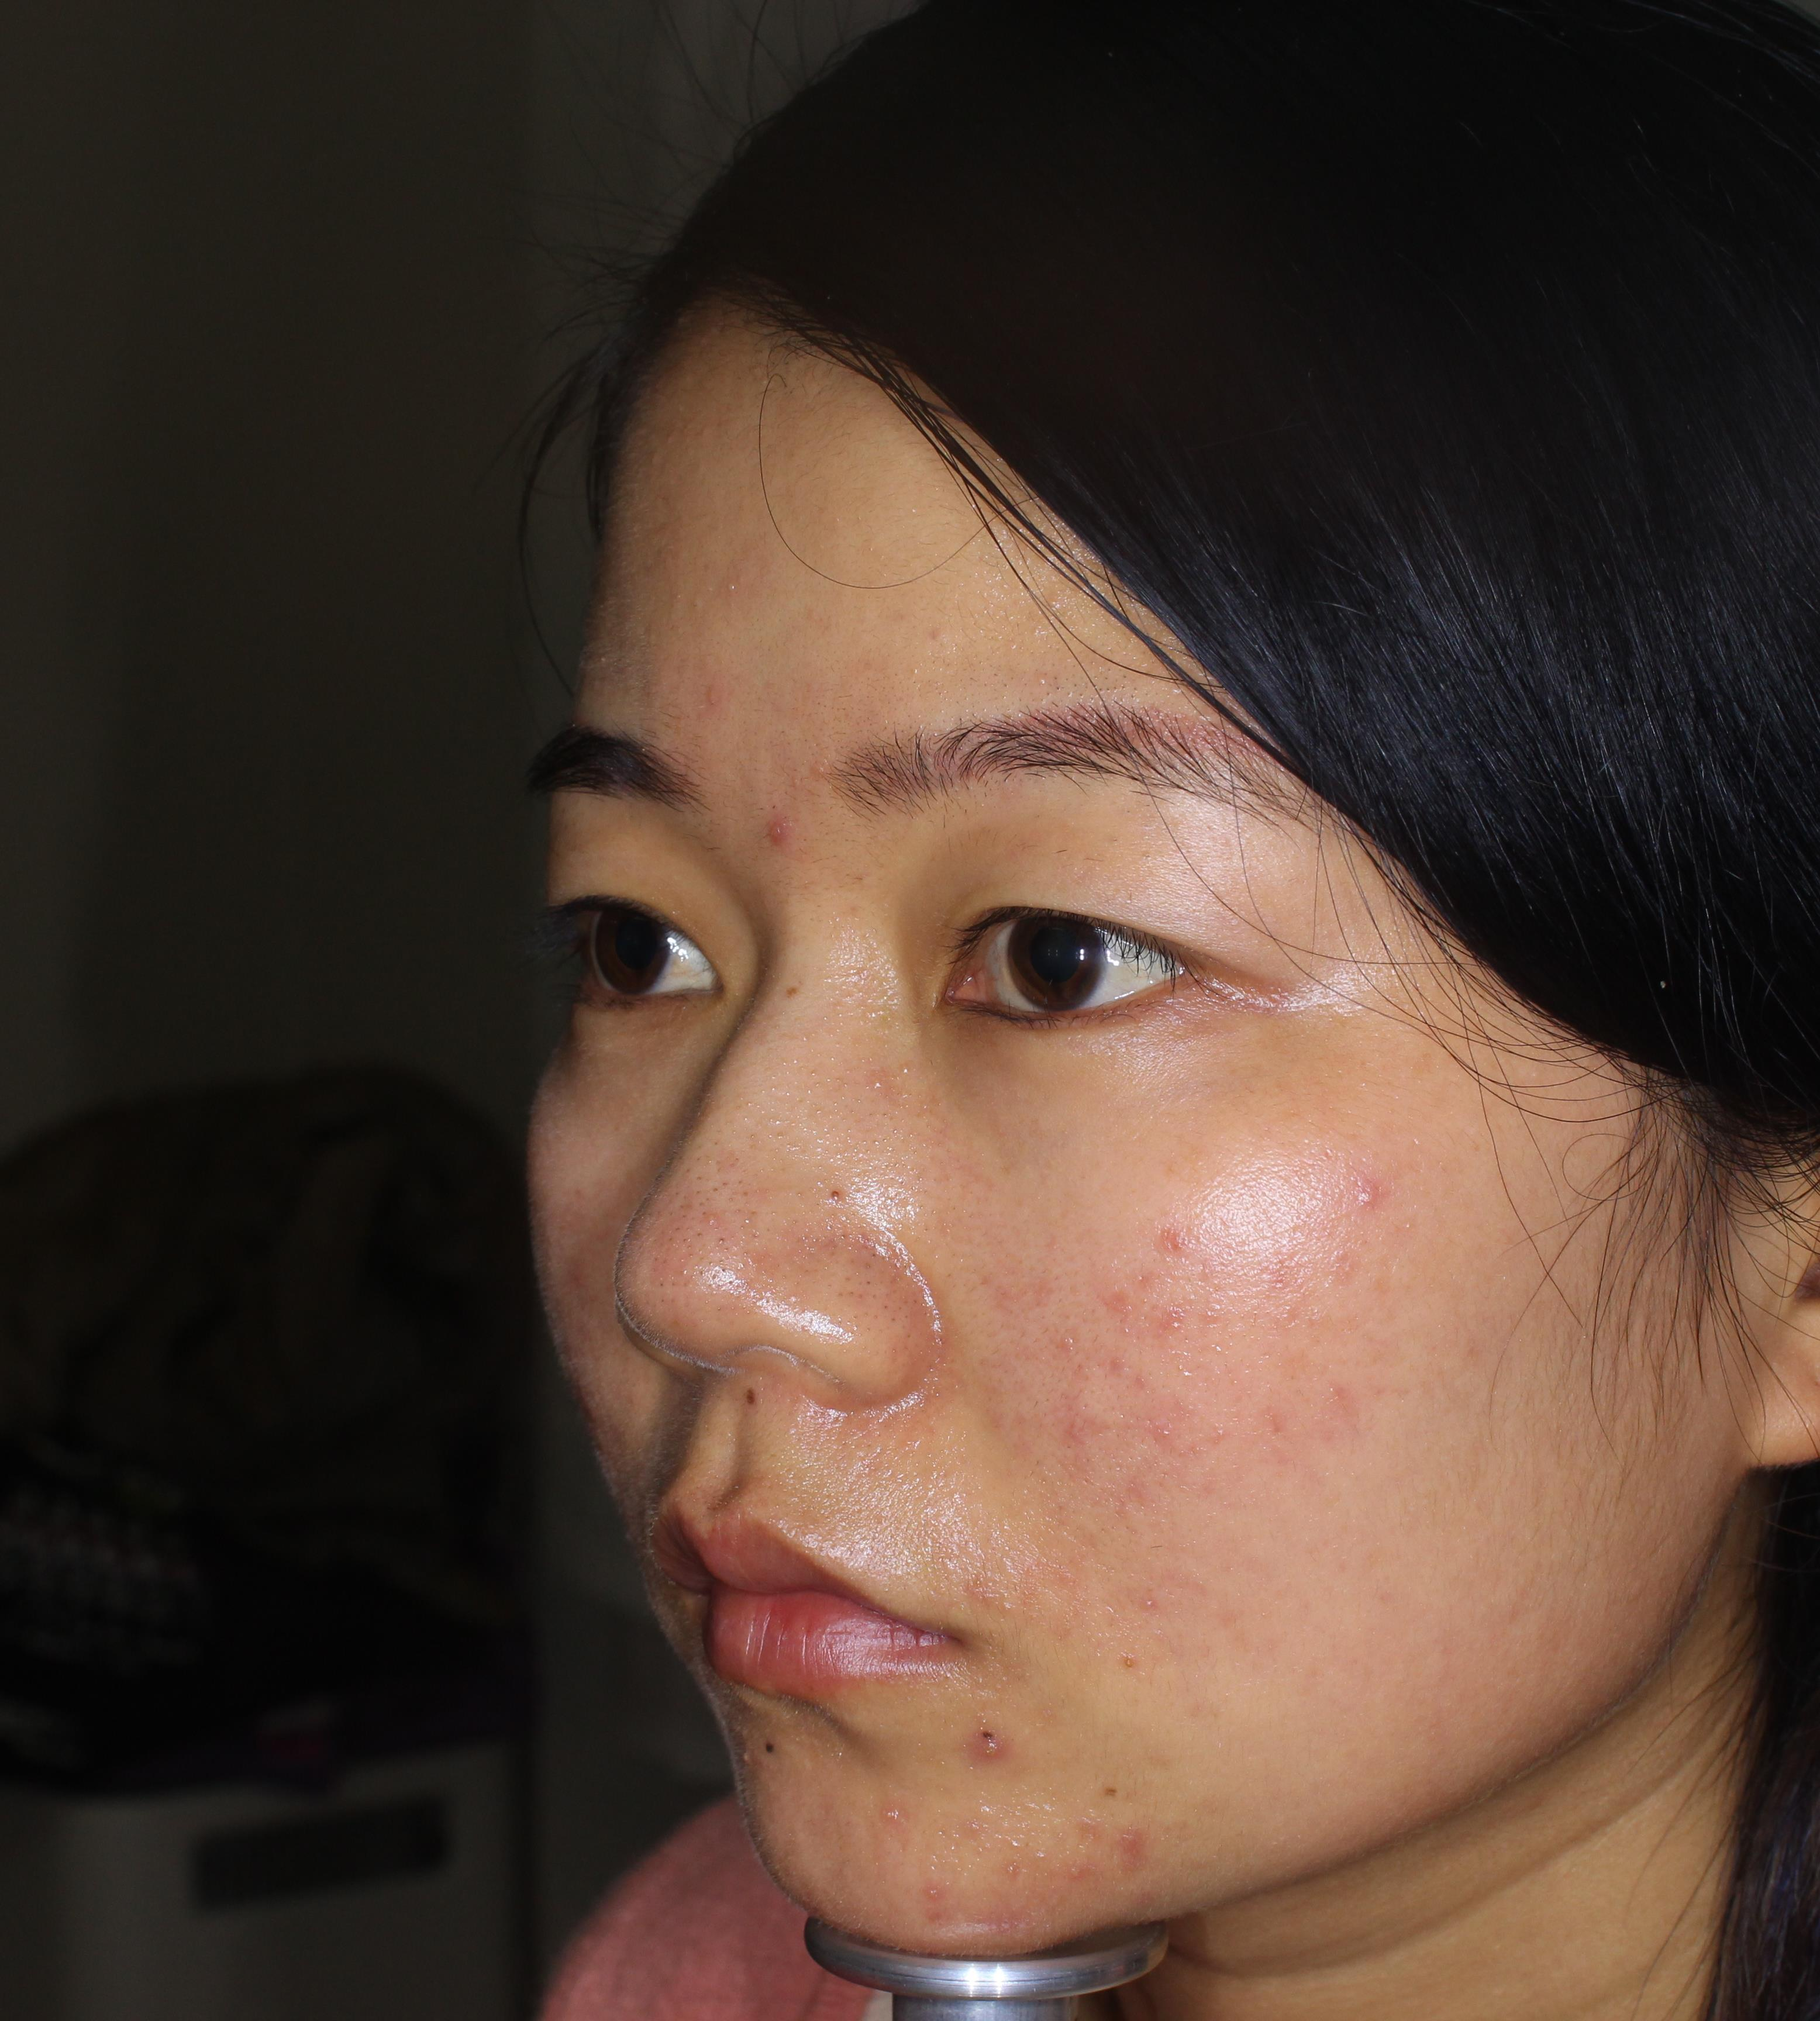fore: (1031, 1378, 1123, 1468), (892, 1866, 991, 1938), (1077, 1817, 1161, 1875), (1305, 1168, 1377, 1226), (956, 1705, 1014, 1773), (736, 801, 808, 855)
